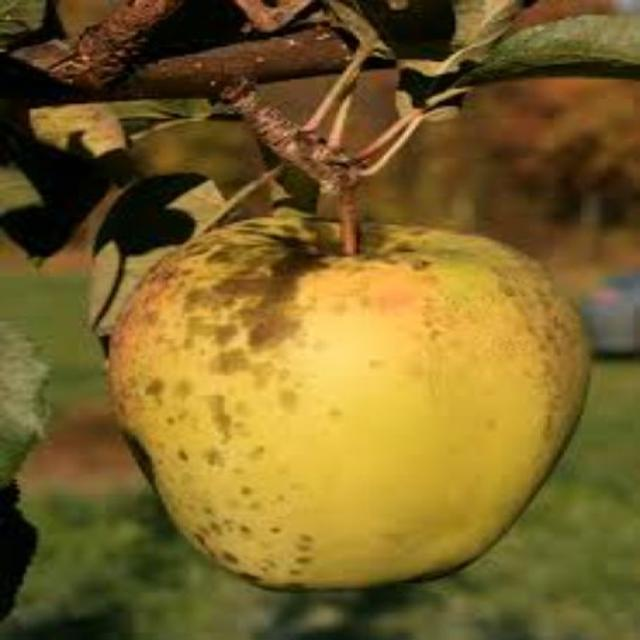Rotten Apple: (92, 183, 605, 607)
